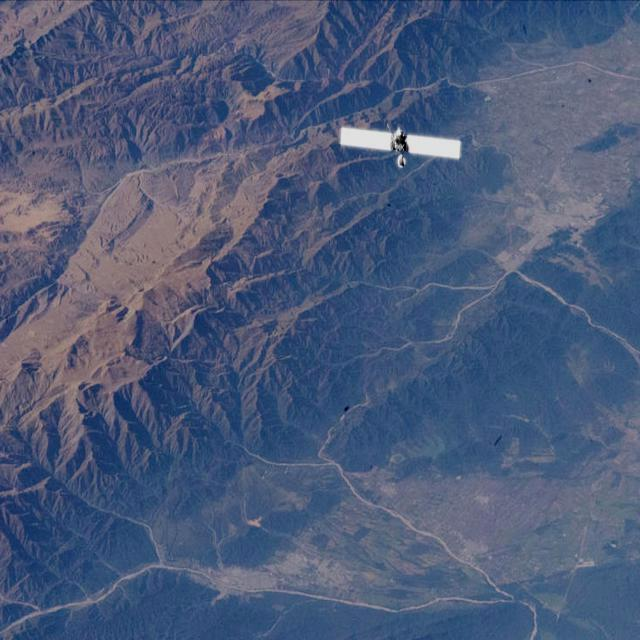satellite: (330, 119, 468, 176)
